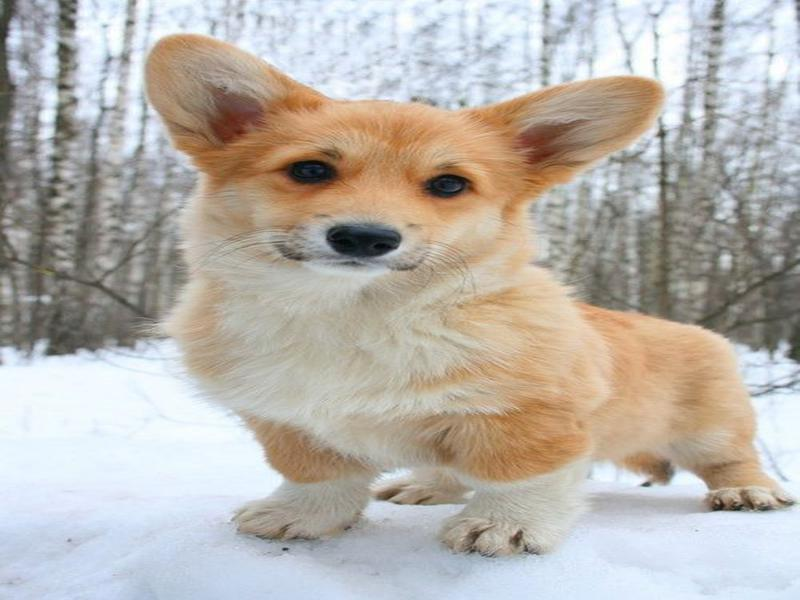corgi: (148, 33, 667, 272)
